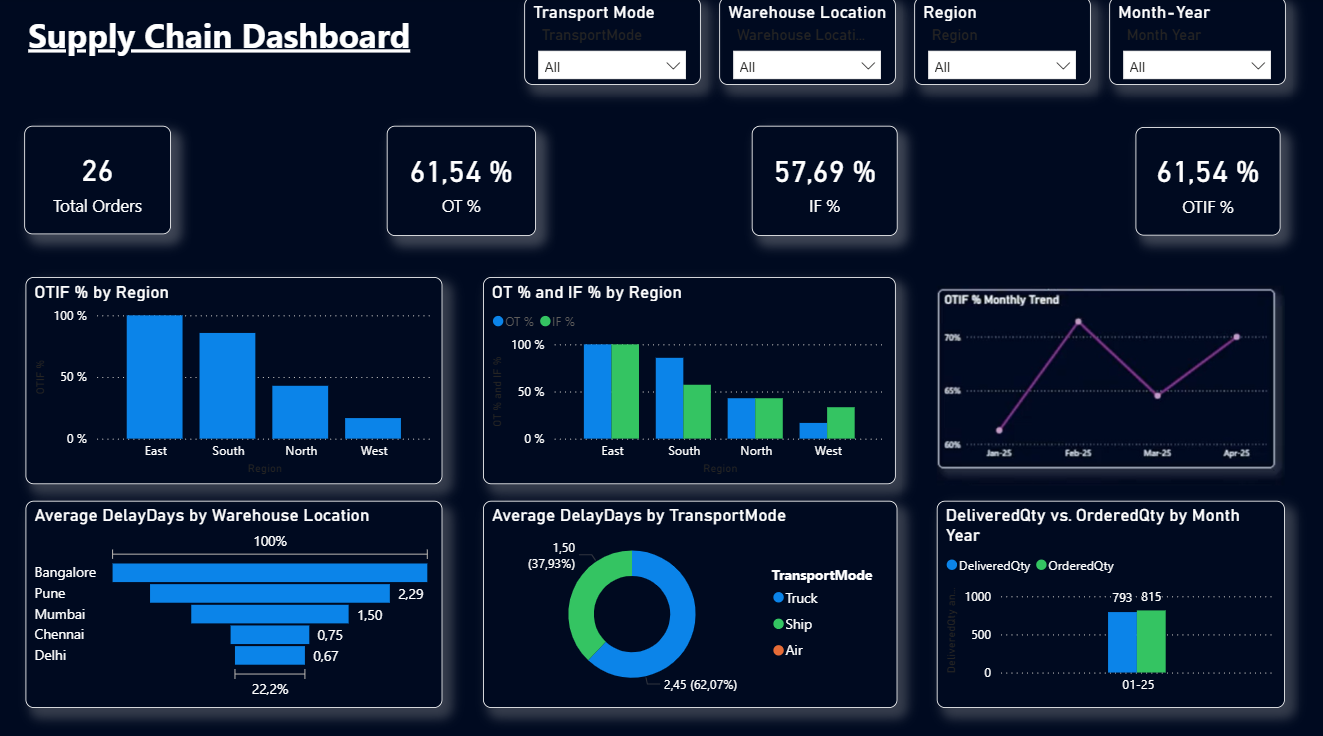

Layout of this report page (visuals, bound fields, positions):
{"tool":"powerbi","page":{"name":"Page 1","canvas":[1280,720],"ordinal":0},"visuals":[{"type":"card","fields":{"Values":["Measure.Total Orders"]},"box":[24.8,124.8,141.5,104.9],"z":0},{"type":"card","fields":{"Values":["Measure.OT %"]},"box":[374.8,124.8,143.8,106.2],"z":1000},{"type":"card","fields":{"Values":["Measure.IF %"]},"box":[727.2,124.8,140.6,106.2],"z":2000},{"type":"card","fields":{"Values":["Measure.OTIF %"]},"box":[1097.5,125,140,105],"z":3000},{"type":"clusteredColumnChart","fields":{"Category":["FACT_SCM.Region"],"Y":["Measure.OTIF %"]},"box":[26,270,402,200],"z":4000},{"type":"clusteredColumnChart","fields":{"Category":["FACT_SCM.Region"],"Y":["Measure.OT %","Measure.IF %"]},"box":[468,270,398,200],"z":5000},{"type":"funnel","fields":{"Category":["DIM_MATERIAL.Warehouse Location"],"Y":["Measure.Average DelayDays"]},"box":[26,486,402,200],"z":6000},{"type":"donutChart","fields":{"Category":["FACT_SCM.TransportMode"],"Y":["Measure.Average DelayDays"]},"box":[468,486,400,200],"z":7000},{"type":"clusteredColumnChart","title":"DeliveredQty vs. OrderedQty by Month Year","fields":{"Category":["Date_Table.Month Year"],"Y":["Sum(FACT_SCM.DeliveredQty)","Sum(FACT_SCM.OrderedQty)"]},"box":[906,486,336,200],"z":8000},{"type":"textbox","box":[24,10,394,76],"z":9000},{"type":"slicer","title":"Month-Year","fields":{"Values":["Date_Table.Month Year"]},"box":[1072.5,0,170,85],"z":10000},{"type":"slicer","title":"Region","fields":{"Values":["FACT_SCM.Region"]},"box":[884.2,0,170,85],"z":11000},{"type":"slicer","title":"Warehouse Location","fields":{"Values":["DIM_MATERIAL.Warehouse Location"]},"box":[695.8,0,170,85],"z":12000},{"type":"slicer","title":"Transport Mode","fields":{"Values":["FACT_SCM.TransportMode"]},"box":[507.5,0,170,85],"z":13000},{"type":"image","box":[906.5,264.1,335.9,221.7],"z":14000}]}

Visuals, with their boxes in screenshot pixels (x1, y1, x2, y2), scaled from the page's 1280x720 canvas onto the 1323x736 screenshot:
card - Measure.Total Orders: [left=26, top=128, right=172, bottom=235]
card - Measure.OT %: [left=387, top=128, right=536, bottom=236]
card - Measure.IF %: [left=752, top=128, right=897, bottom=236]
card - Measure.OTIF %: [left=1134, top=128, right=1279, bottom=235]
clusteredColumnChart - FACT_SCM.Region x Measure.OTIF %: [left=27, top=276, right=442, bottom=480]
clusteredColumnChart - FACT_SCM.Region x Measure.OT %: [left=484, top=276, right=895, bottom=480]
funnel - DIM_MATERIAL.Warehouse Location x Measure.Average DelayDays: [left=27, top=497, right=442, bottom=701]
donutChart - FACT_SCM.TransportMode x Measure.Average DelayDays: [left=484, top=497, right=897, bottom=701]
"DeliveredQty vs. OrderedQty by Month Year" clusteredColumnChart: [left=936, top=497, right=1284, bottom=701]
textbox: [left=25, top=10, right=432, bottom=88]
"Month-Year" slicer: [left=1109, top=0, right=1284, bottom=87]
"Region" slicer: [left=914, top=0, right=1090, bottom=87]
"Warehouse Location" slicer: [left=719, top=0, right=895, bottom=87]
"Transport Mode" slicer: [left=525, top=0, right=700, bottom=87]
image: [left=937, top=270, right=1284, bottom=497]
